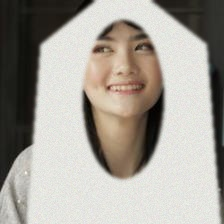Mukena: (22, 27, 224, 224)
